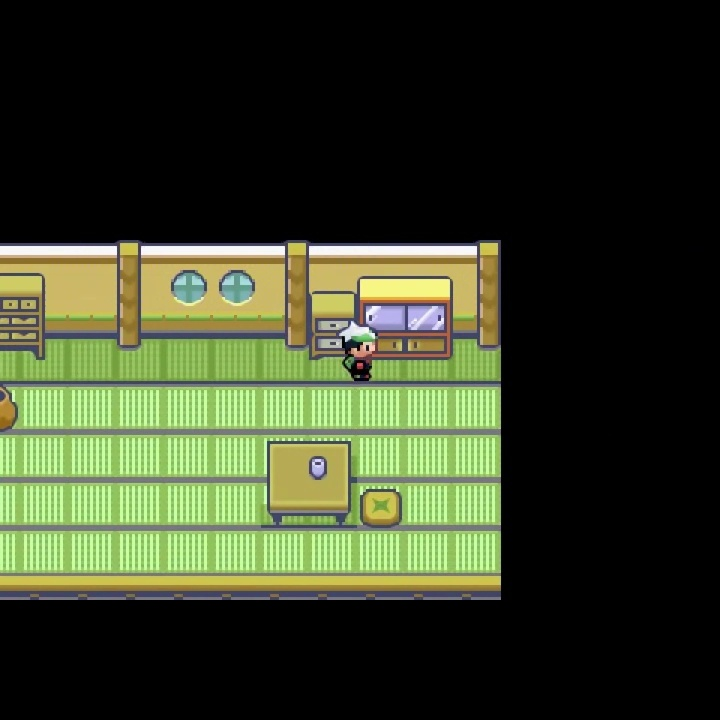npc: (336, 320, 380, 386)
